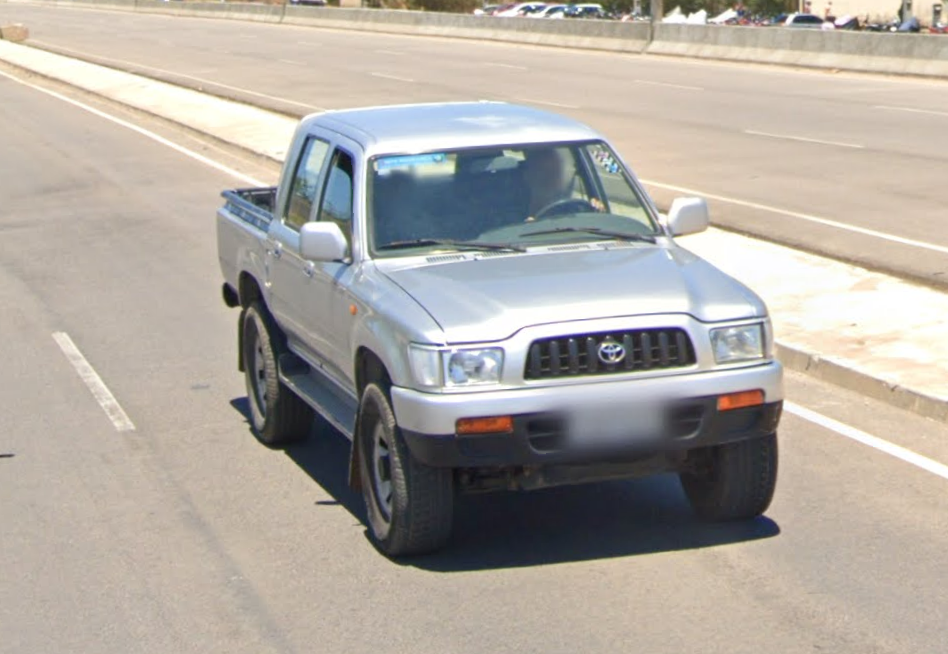car: (212, 93, 785, 563)
